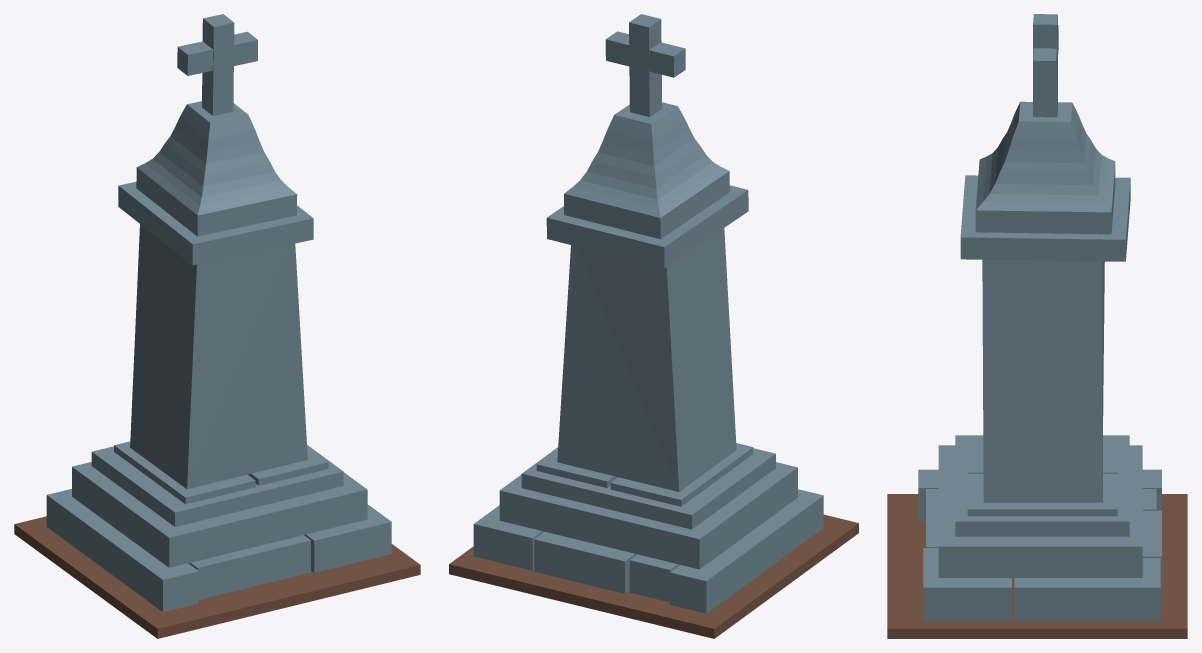
The model's file is Gravestone 4.glb.
3 renders of one model, left to right at view 1: azimuth 30°, elevation 25°; view 2: azimuth 150°, elevation 25°; view 3: azimuth 270°, elevation 25°, orthographic. The views are drawn at different scales.
Visible parts, largest first — view 1: Node; view 2: Node; view 3: Node.
Part boxes in pixels (x1=…): Node: x1=14, y1=14, x2=420, y2=638; Node: x1=449, y1=14, x2=858, y2=638; Node: x1=887, y1=14, x2=1187, y2=638.
Size of the model in its own units: 2.48 by 4.78 by 2.34.
